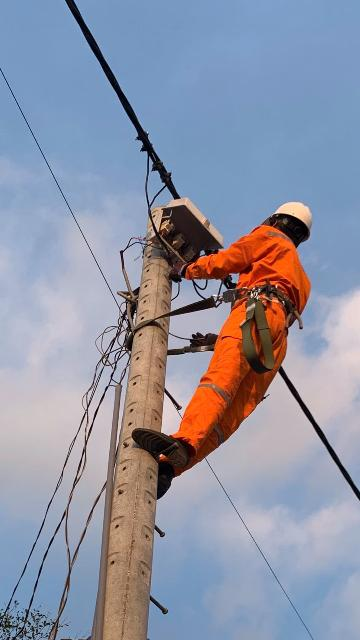gloves: (161, 260, 195, 286)
harness: (223, 269, 306, 333)
helmet: (272, 207, 322, 246)
shoes: (130, 427, 198, 469)
